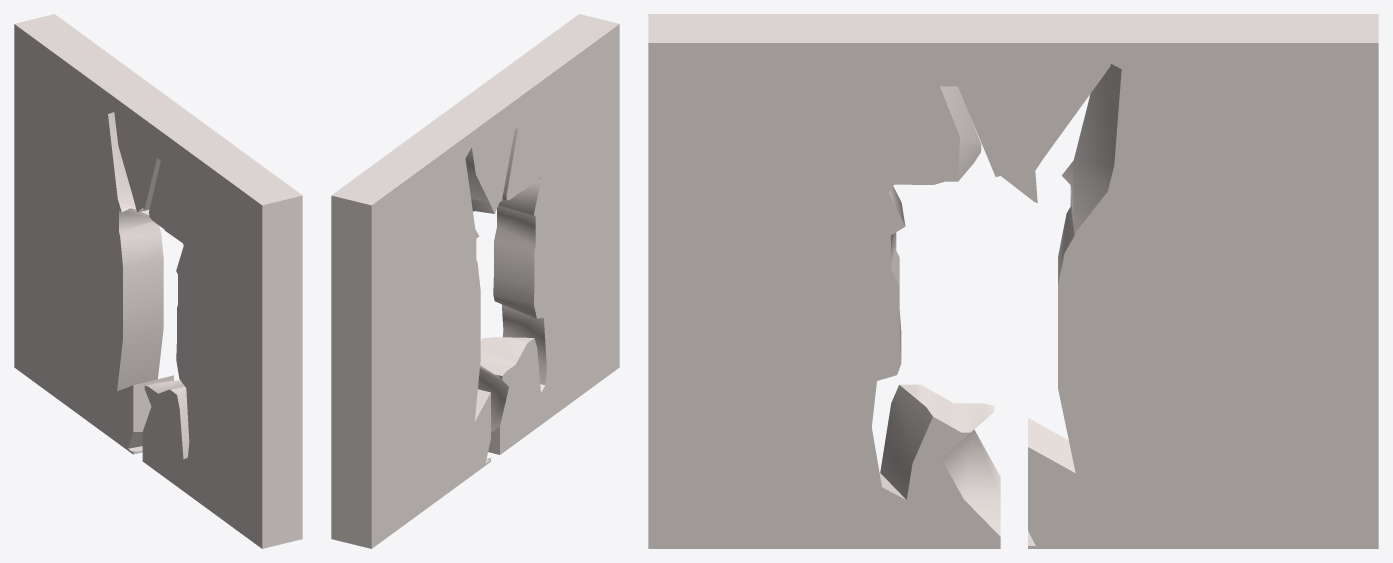
File: gap00.fbx
The picture shows the model from 3 angles, left to right: view 1: azimuth 30°, elevation 25°; view 2: azimuth 150°, elevation 25°; view 3: azimuth 270°, elevation 25°; orthographic projection. The views are drawn at different scales.
Parts seen in each view (by area): view 1: Box043; view 2: Box043; view 3: Box043.
Part boxes in pixels (x1,y1,x2,y2): Box043: [14, 14, 302, 548]; Box043: [331, 14, 619, 548]; Box043: [648, 14, 1378, 548].
Size of the model in its own units: 33.24 by 269 by 352.
Materials: 1 (1 with a texture image).
